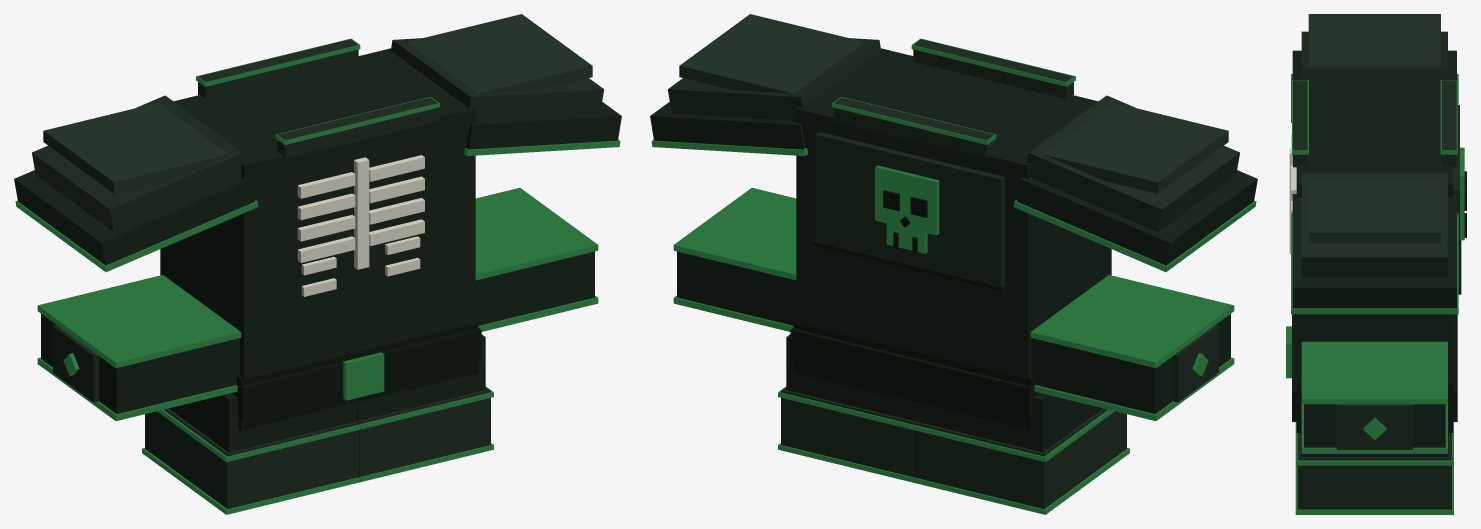
3 views of the same model, side by side, from view 1: azimuth 30°, elevation 25°; view 2: azimuth 150°, elevation 25°; view 3: azimuth 270°, elevation 25° (orthographic). The views are drawn at different scales.
Parts seen in each view (by area): view 1: rank-necromancer-c; view 2: rank-necromancer-c; view 3: rank-necromancer-c.
Part boxes in pixels (bbox=[...]): rank-necromancer-c: bbox=[14, 14, 621, 514]; rank-necromancer-c: bbox=[650, 14, 1257, 514]; rank-necromancer-c: bbox=[1286, 14, 1466, 514].
Size of the model in its own units: 1.24 by 0.8211 by 0.397.
